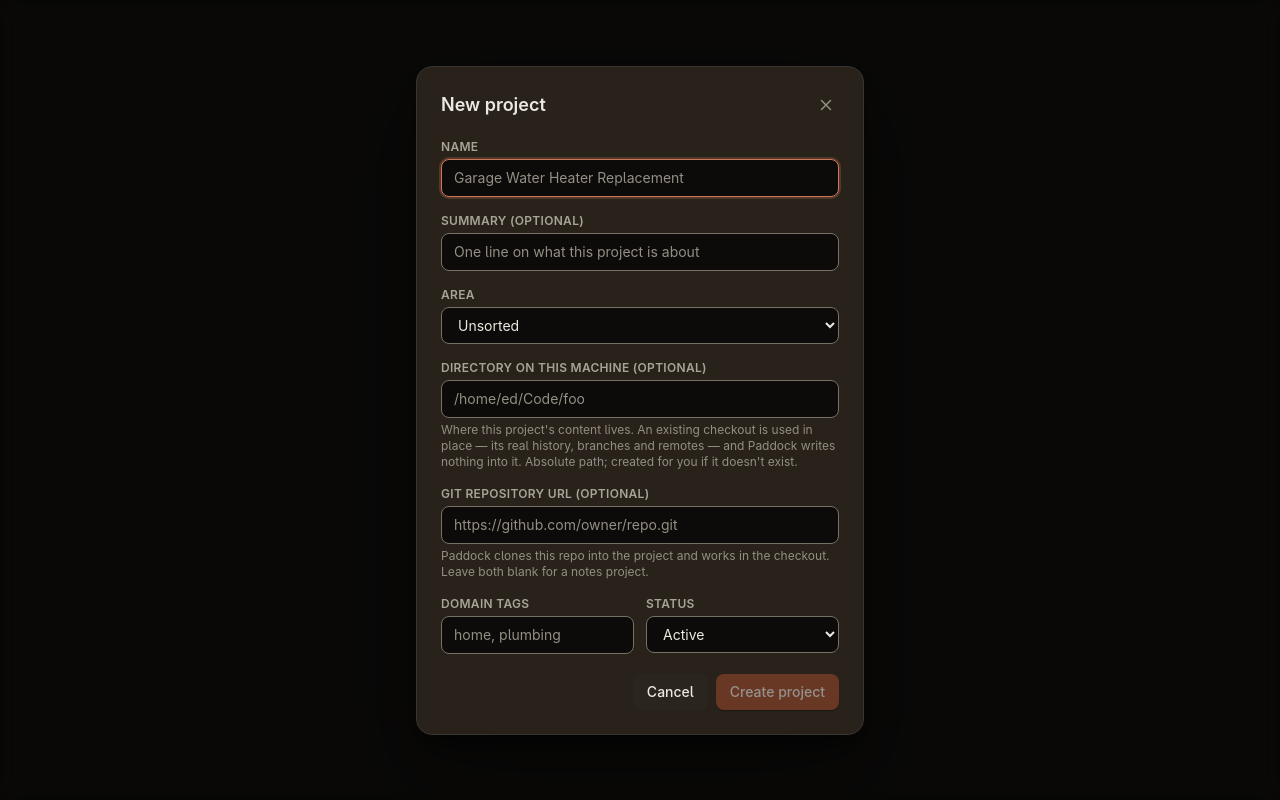
Scenario: NewProjectModal › disables Create until a name is entered (validation)
Expected: the button "Create project" is disabled, [716,674,839,710]
Step 1. Type "My Project" into the field with placeholder "Garage Water Heater Replacement" → (640, 178), box [441,158,839,196]
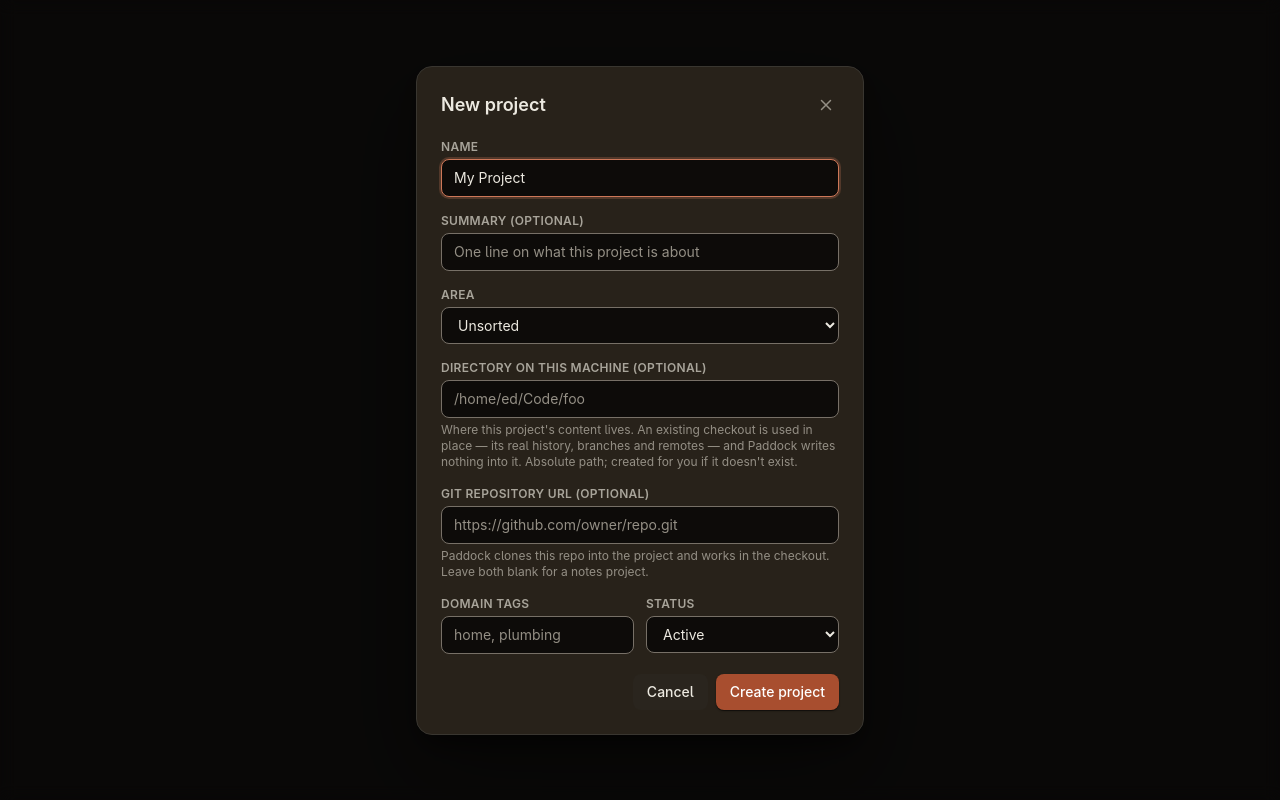
Expected: the button "Create project" is enabled, [716,674,839,710]
